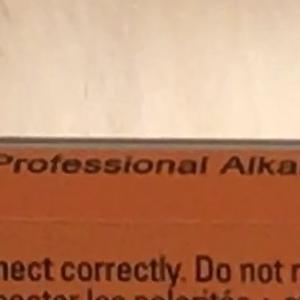keyword: (210, 145, 267, 185)
